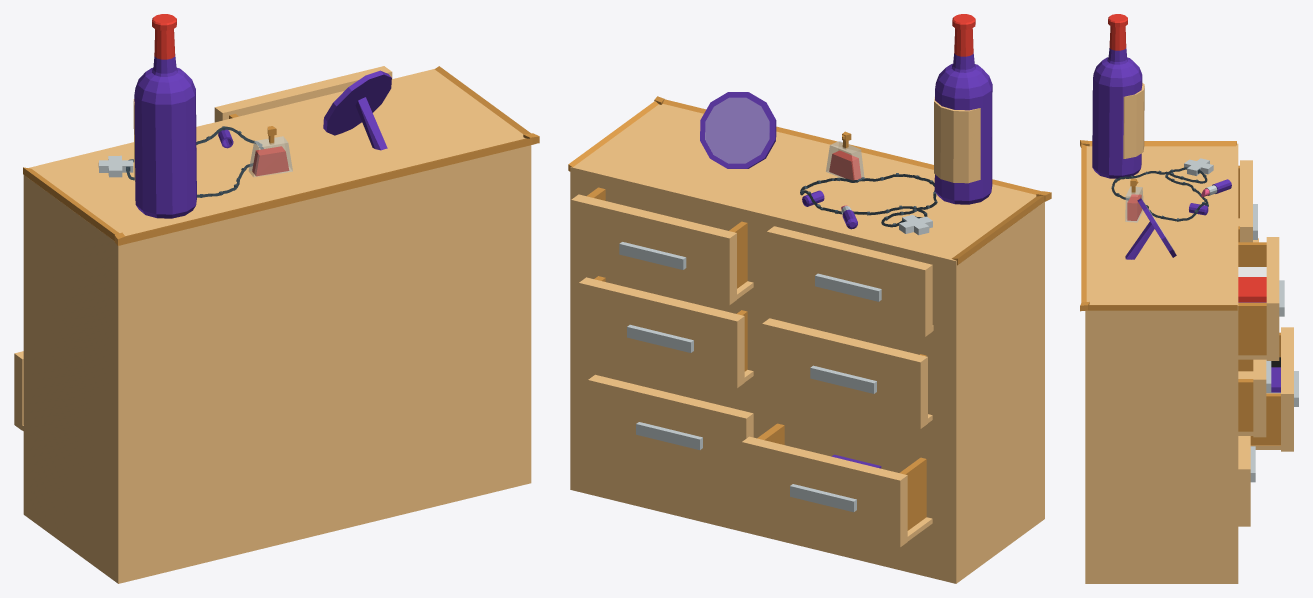
File: Dresser.glb
3 renders of one model, left to right at view 1: azimuth 30°, elevation 25°; view 2: azimuth 150°, elevation 25°; view 3: azimuth 270°, elevation 25°, orthographic. The views are drawn at different scales.
Parts seen in each view (by area): view 1: Node; view 2: Node; view 3: Node.
Boxes of the visible parts, bbox=[...] form: Node: bbox=[14, 14, 539, 583]; Node: bbox=[568, 14, 1051, 583]; Node: bbox=[1080, 14, 1298, 583].
Bounding box in the file's own units: 3.26 × 3.95 × 1.82.
